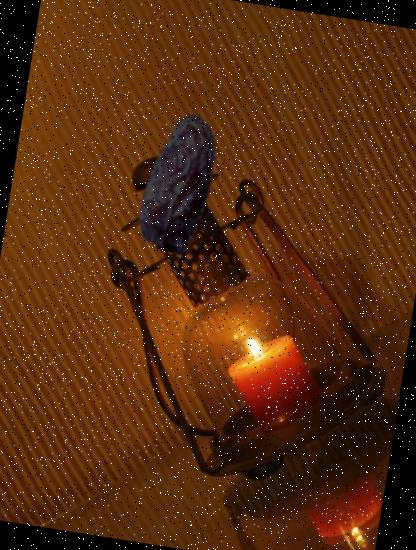Dates: (100, 104, 259, 262)
